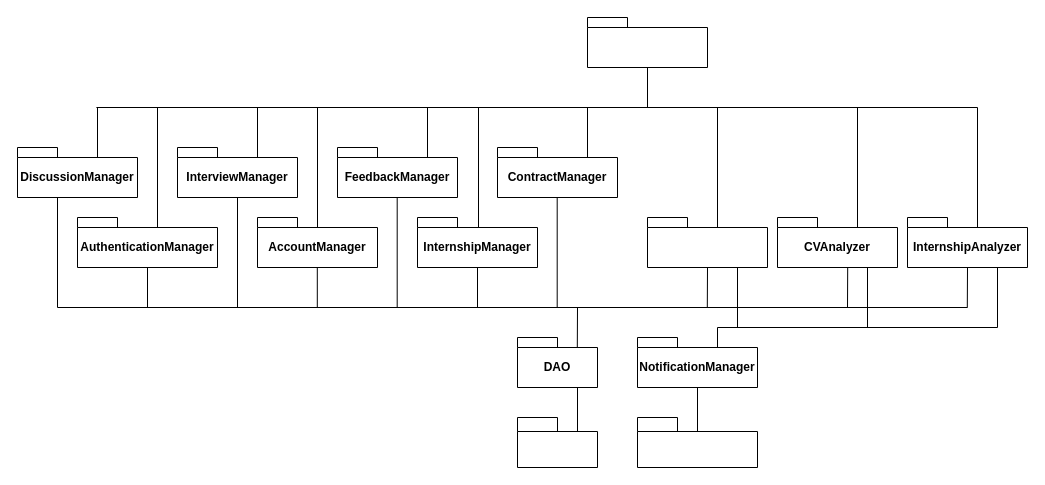
This 1045x485 diagram has some shape labels left out. The centre of each missing label's shape, as x and y in pixels:
AffinityAnalyzer: point (707, 242)
DBMS: point (557, 442)
Mail Service: point (697, 442)
WebAPP: point (647, 42)
